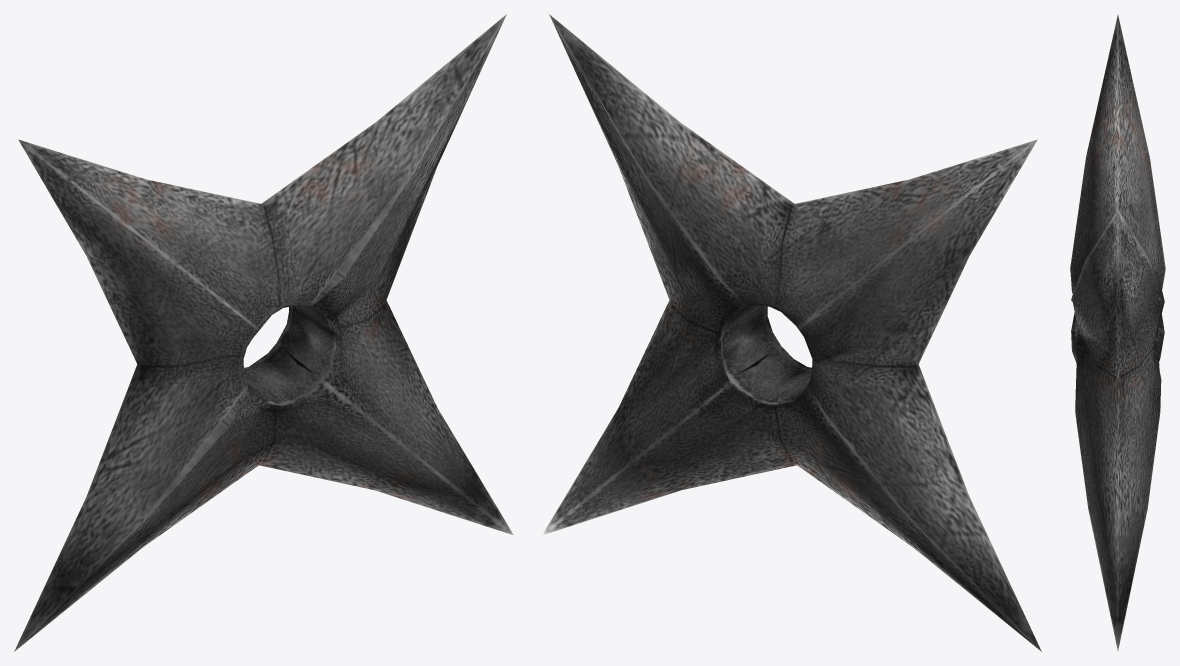
File: BACK_SHURIKEN.fbx
3 renders of one model, left to right at view 1: azimuth 30°, elevation 25°; view 2: azimuth 150°, elevation 25°; view 3: azimuth 270°, elevation 25°, orthographic. The views are drawn at different scales.
Parts seen in each view (by area): view 1: BACK_SHURIKEN; view 2: BACK_SHURIKEN; view 3: BACK_SHURIKEN.
Boxes of the visible parts, <box> form: BACK_SHURIKEN: <box>14,14,513,651</box>; BACK_SHURIKEN: <box>542,14,1041,651</box>; BACK_SHURIKEN: <box>1070,15,1165,650</box>.
Size of the model in its own units: 0.0406 by 0.0406 by 0.00801.
